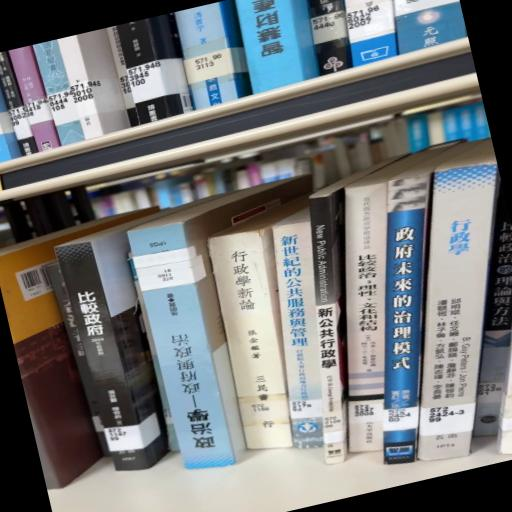reverse: (129, 178, 313, 470)
